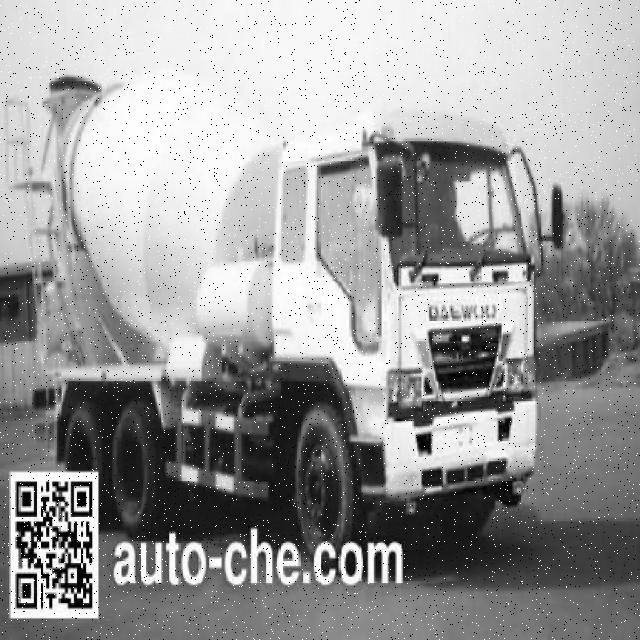Concrete Mixer: (4, 71, 541, 587)
